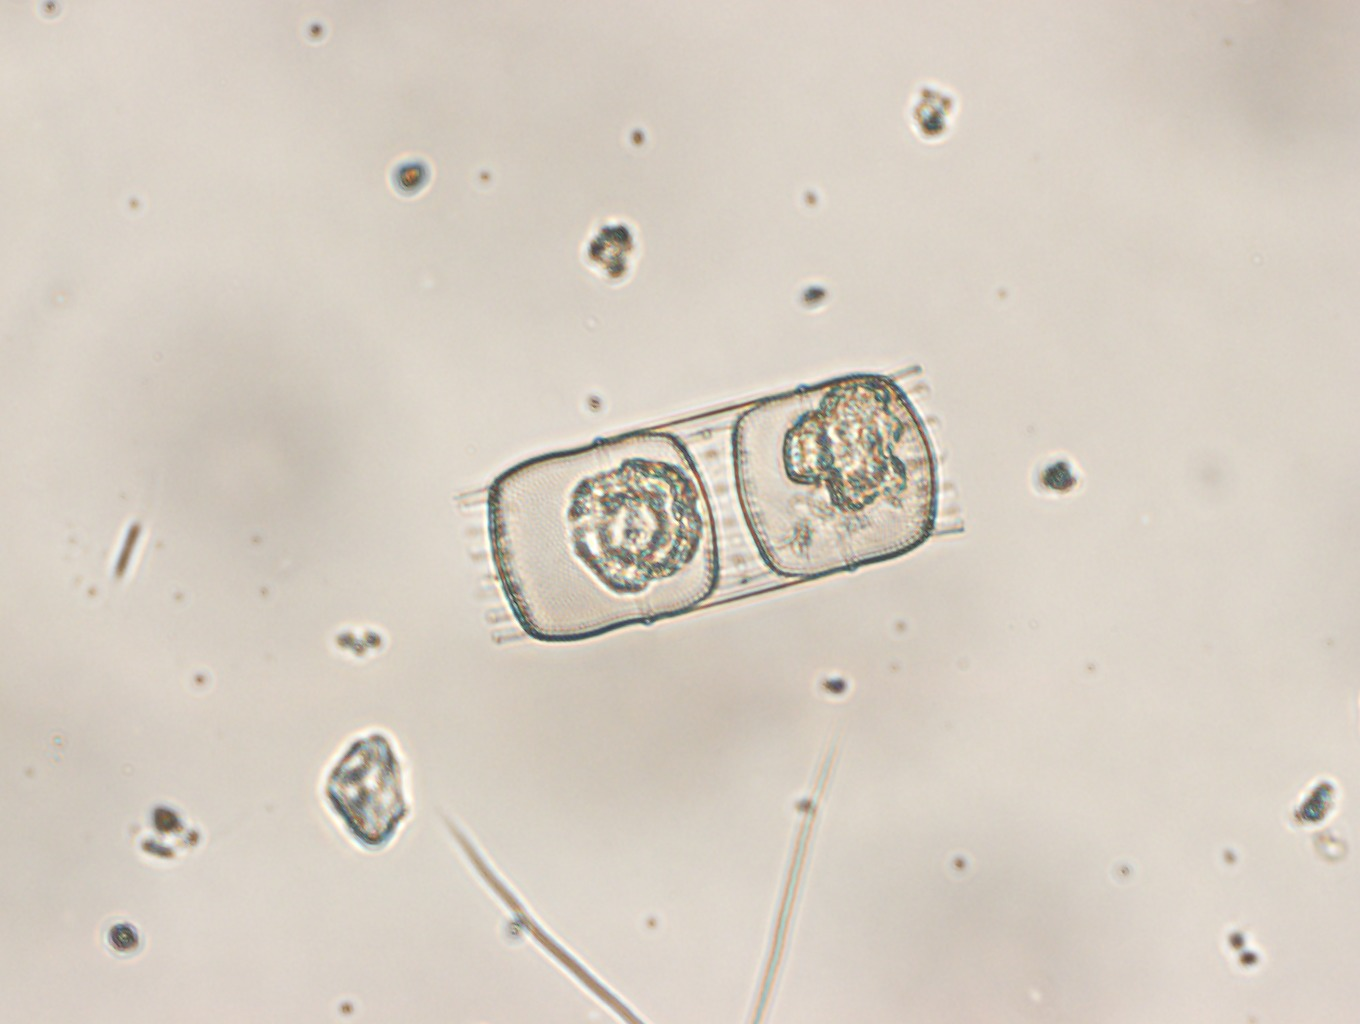corethron: (456, 360, 967, 648)
